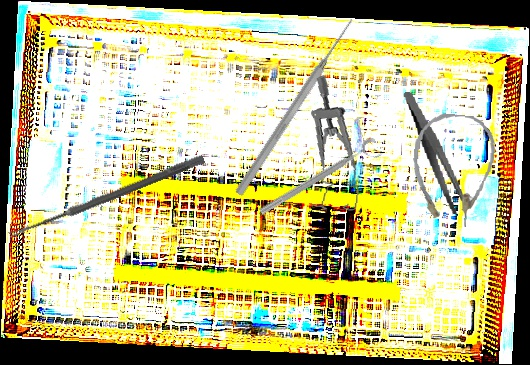Cannula: (406, 110, 499, 230)
Dressing Forceps: (402, 85, 468, 220)
Fixation Ring: (256, 135, 385, 226)
Pusher: (233, 15, 358, 198)
Speculum: (299, 74, 373, 215)
Surgical Spoon: (7, 153, 206, 241)
